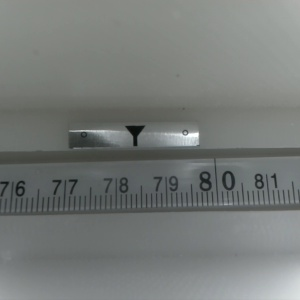0: (221, 170, 235, 190)
1: (271, 173, 277, 189)
6: (14, 180, 25, 196)
7: (67, 179, 78, 194), (151, 176, 161, 192), (102, 178, 112, 193), (51, 180, 61, 195), (0, 181, 9, 197)
8: (198, 171, 211, 191), (118, 177, 128, 193), (254, 173, 264, 189)
9: (168, 175, 178, 191)
finger: (123, 125, 145, 147)
